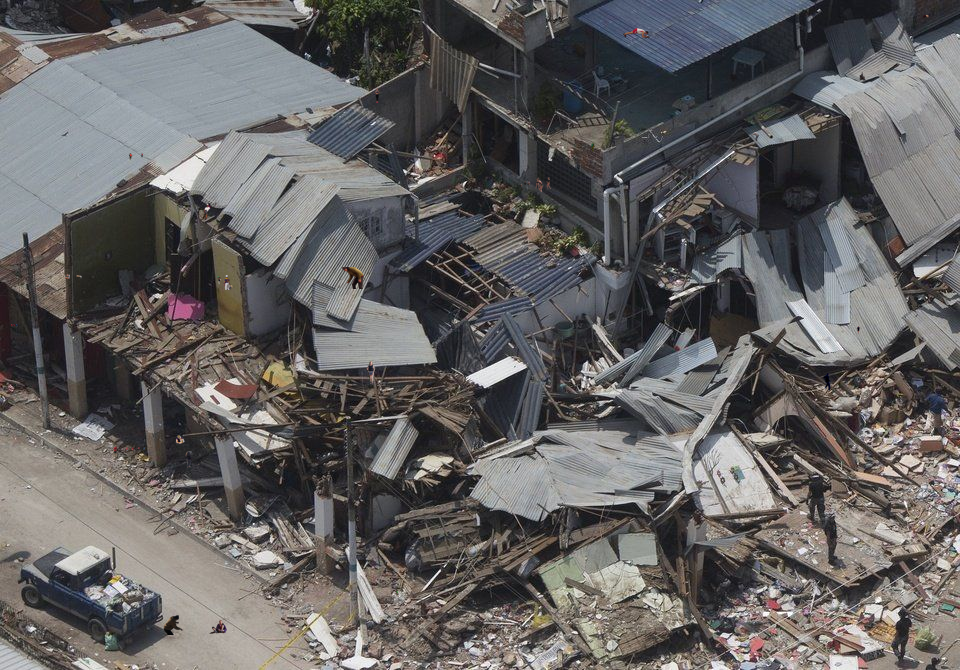Human: (804, 471, 829, 525), (891, 608, 913, 663), (822, 508, 840, 567), (519, 177, 553, 192), (113, 445, 151, 458), (342, 267, 364, 289), (159, 615, 183, 635), (209, 620, 240, 634), (185, 451, 203, 468), (203, 202, 218, 220), (623, 28, 650, 38), (217, 275, 233, 290), (176, 435, 192, 449), (366, 361, 375, 385), (823, 373, 831, 391), (129, 153, 143, 160), (749, 132, 759, 141), (374, 88, 380, 103), (65, 274, 82, 279), (826, 525, 839, 531), (859, 72, 866, 82), (393, 589, 399, 597), (591, 143, 596, 152), (923, 13, 930, 18), (10, 324, 21, 327), (857, 326, 860, 334), (777, 434, 780, 440), (801, 351, 804, 355), (5, 636, 9, 638), (431, 596, 433, 599), (881, 153, 883, 156), (36, 328, 38, 331), (81, 653, 82, 654)
